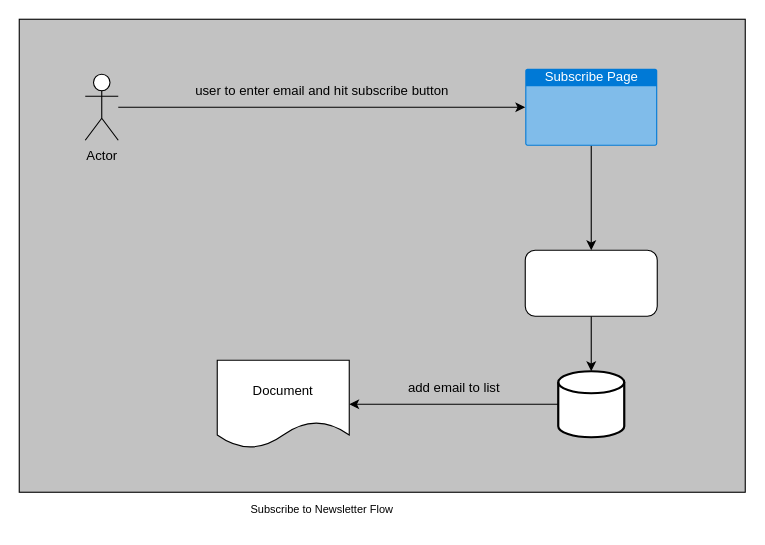
Some shapes in this 765 by 545 pixel diagram are drawn without their labels. Each missing label, with the box of its shape:
add-subscriber Azure Function: (524, 249, 657, 316)
Mongo DB Atlas: (557, 370, 625, 438)
